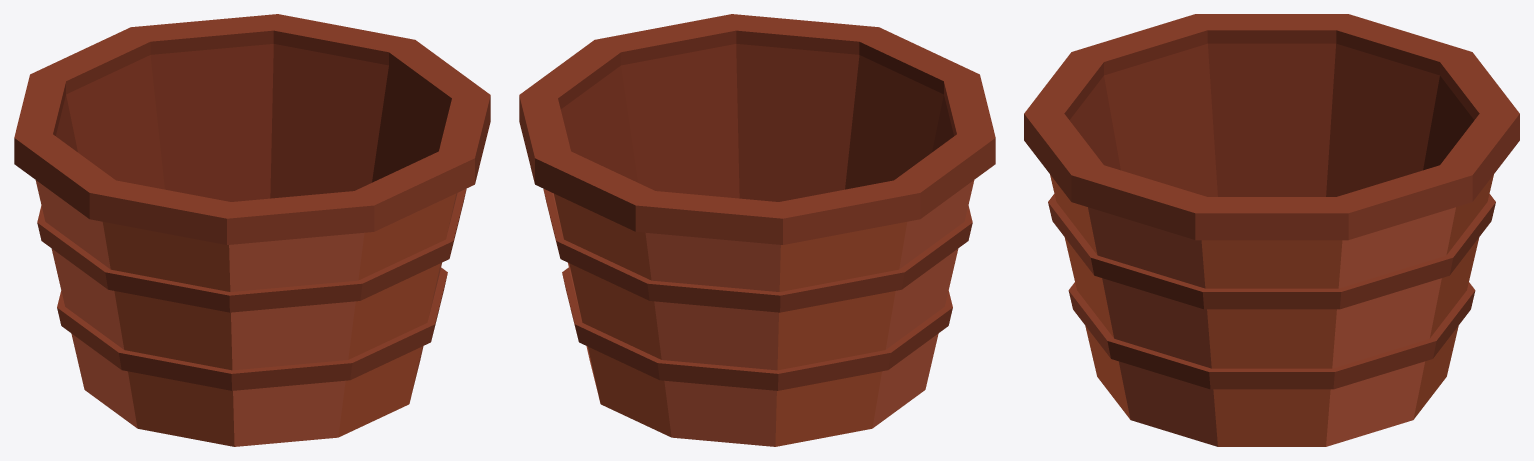
The model's file is Basket.obj.
3 views of the same model, side by side, from view 1: azimuth 30°, elevation 25°; view 2: azimuth 150°, elevation 25°; view 3: azimuth 270°, elevation 25° (orthographic).
Visible parts, largest first — view 1: Basket; view 2: Basket; view 3: Basket.
Part boxes in pixels (x1=…): Basket: x1=14, y1=14, x2=490, y2=446; Basket: x1=519, y1=14, x2=995, y2=446; Basket: x1=1024, y1=14, x2=1519, y2=446.
Size of the model in its own units: 1.11 by 0.685 by 1.17.
